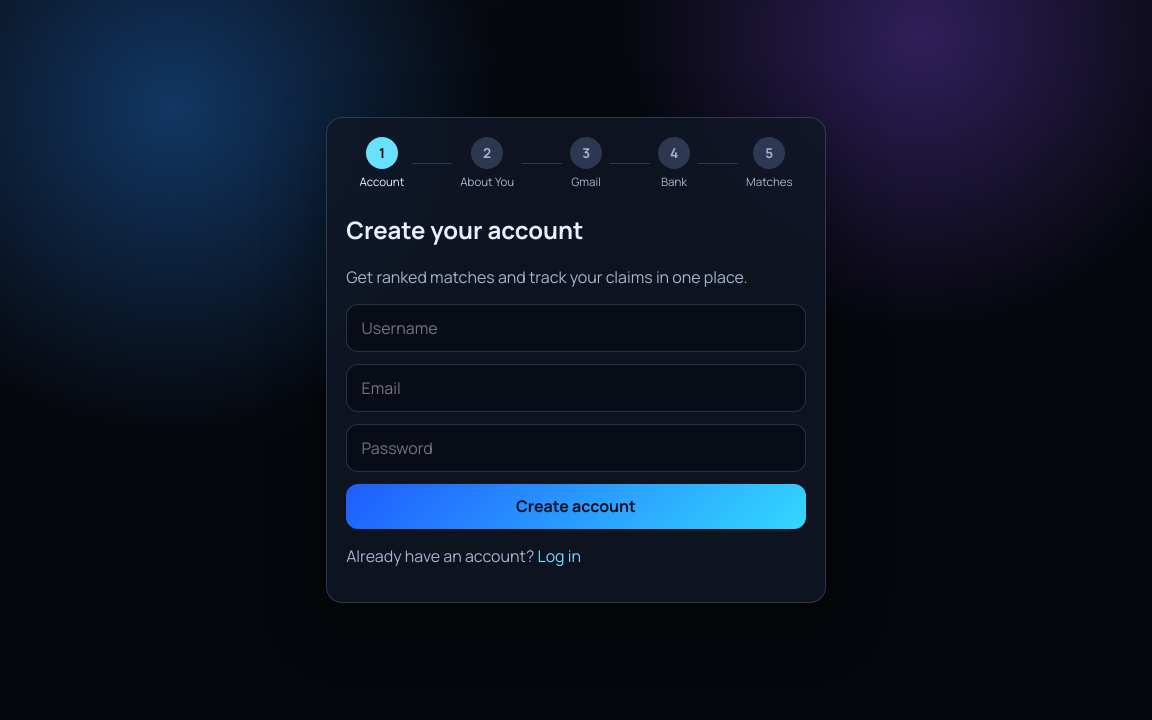
Test case: signup form submits and advances to step 2
Step 1. Type "matt" into the field with placeholder "Username" → (576, 328), box [346, 304, 806, 352]
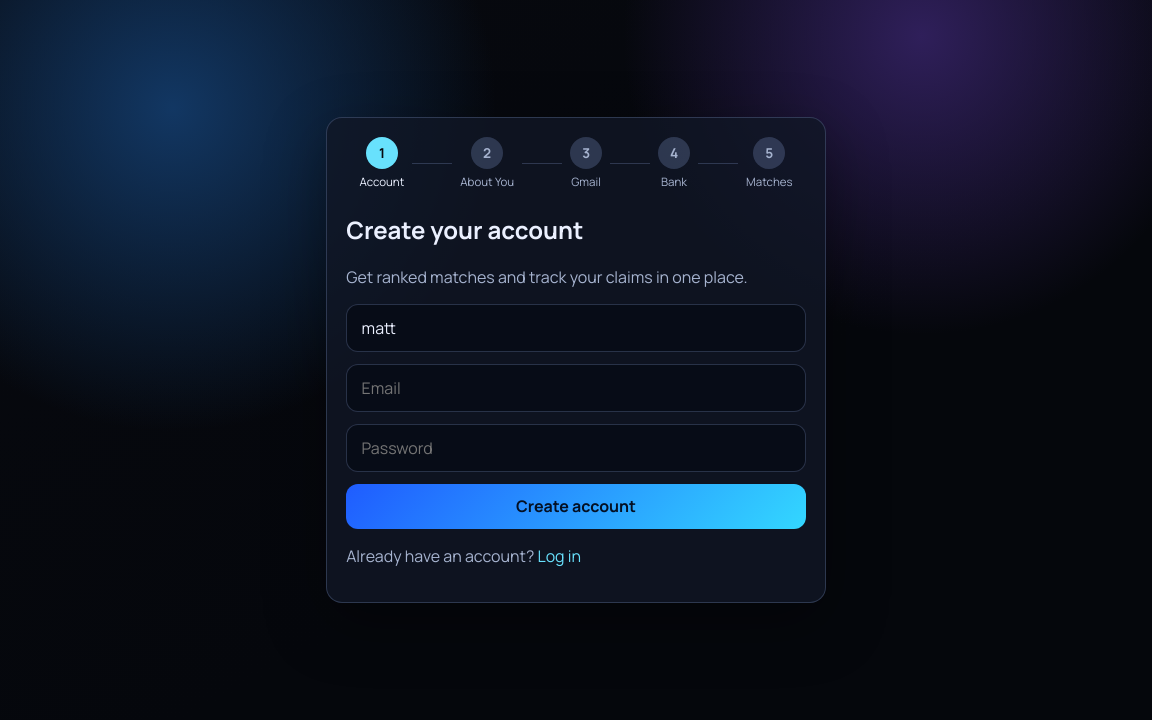
Step 2. Type "matt@example.com" into the field with placeholder "Email" → (576, 388), box [346, 364, 806, 412]
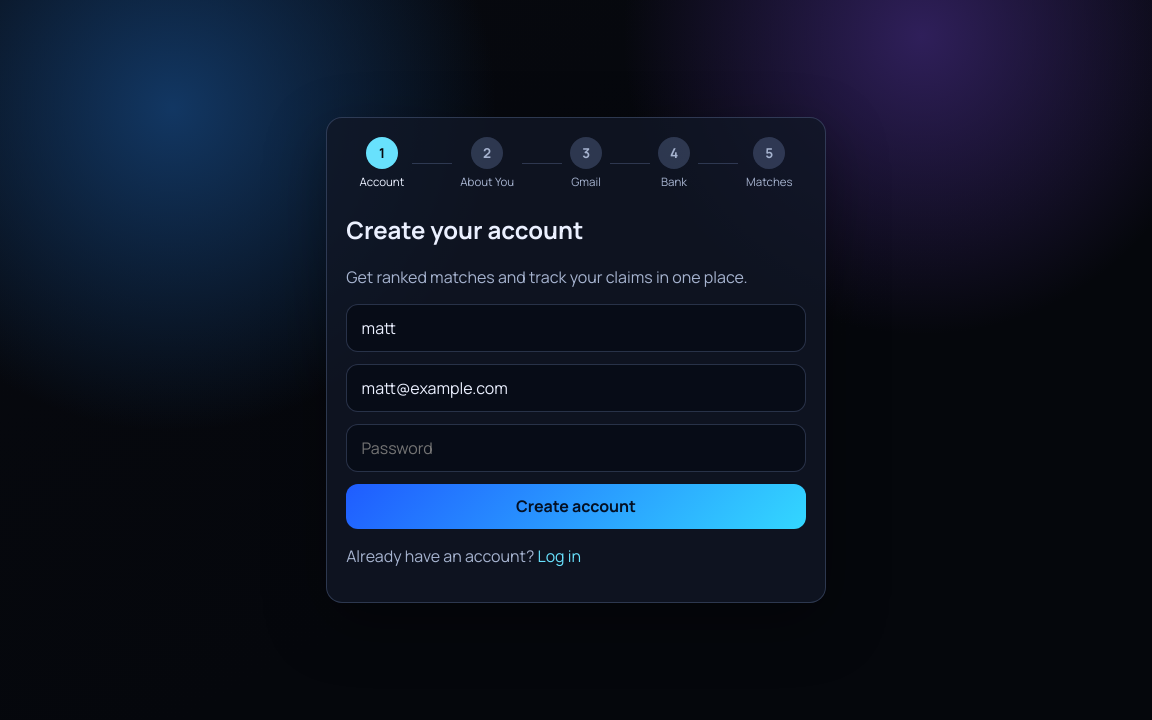
Step 3. Type "password123" into the password field with placeholder "Password" → (576, 448), box [346, 424, 806, 472]
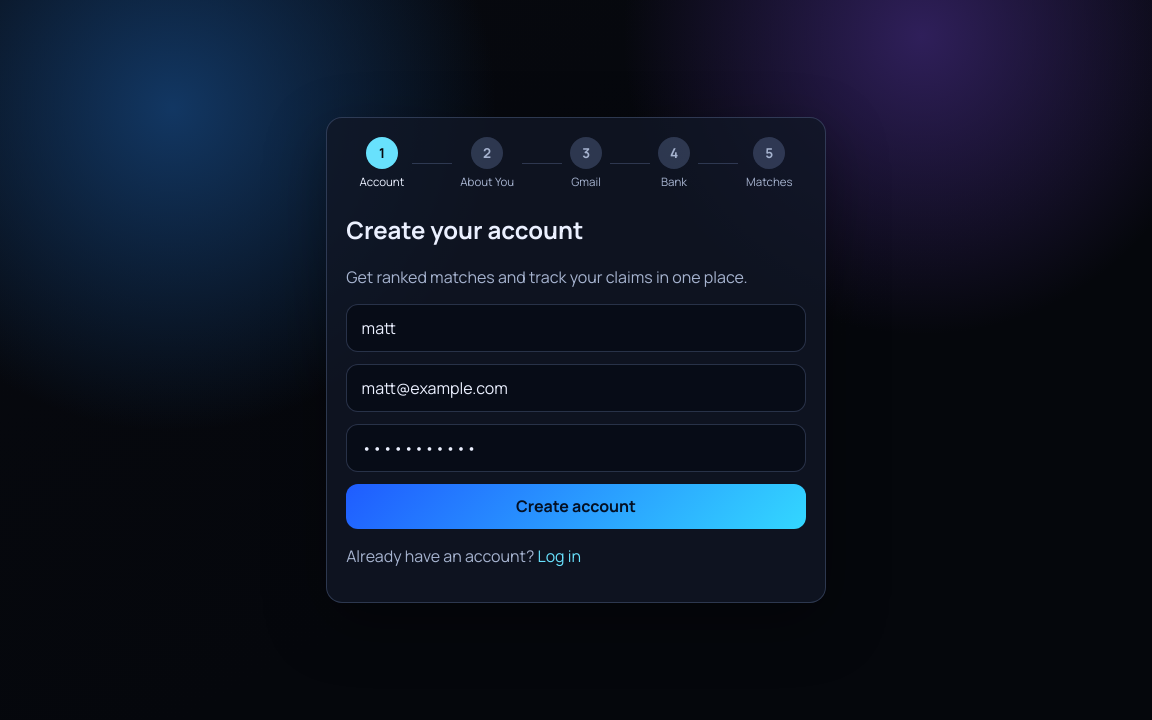
Step 4. Click the button "Create account" → (576, 506), box [346, 484, 806, 529]
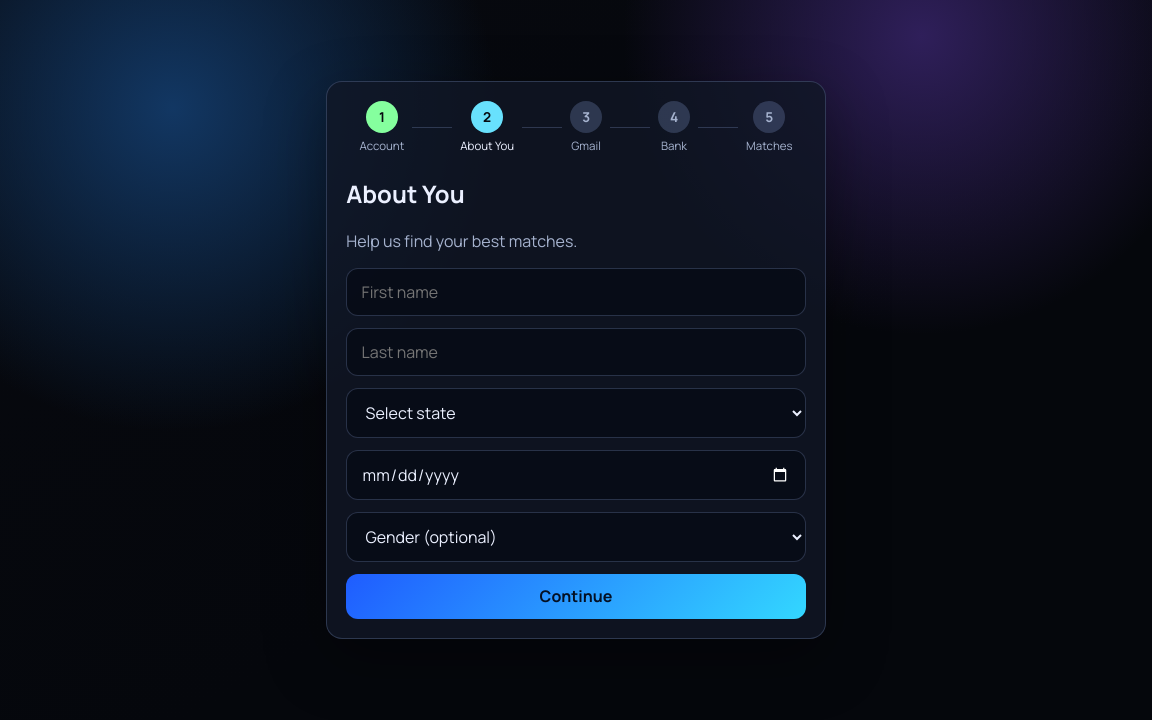
Check: the text "About You" is shown, box [460, 138, 514, 153]
Check: the field with placeholder "First name" is shown, box [346, 268, 806, 316]
